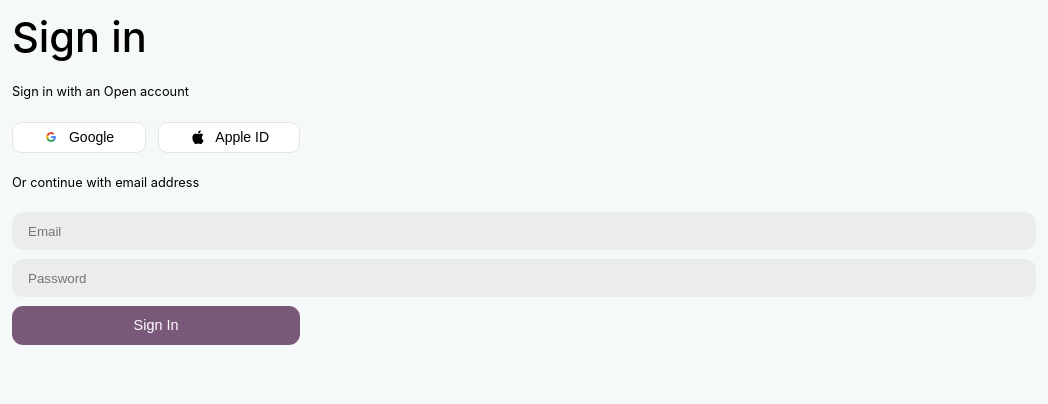
Test case: SignIn component › shows error if form fields empty
This screenshot has width=1048, height=404.
Click the button "Sign In". click: (156, 326)
box: [12,306,300,345]
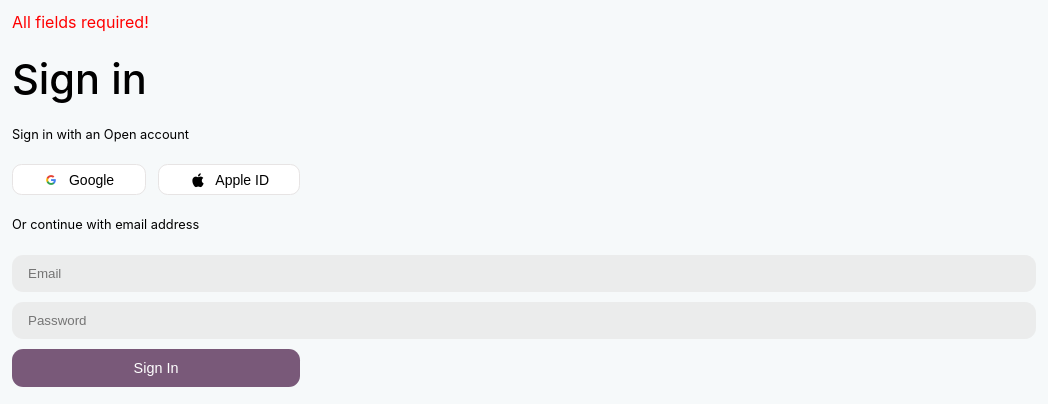
Now the text "All fields required!" is shown, box [12,12,149,32]
